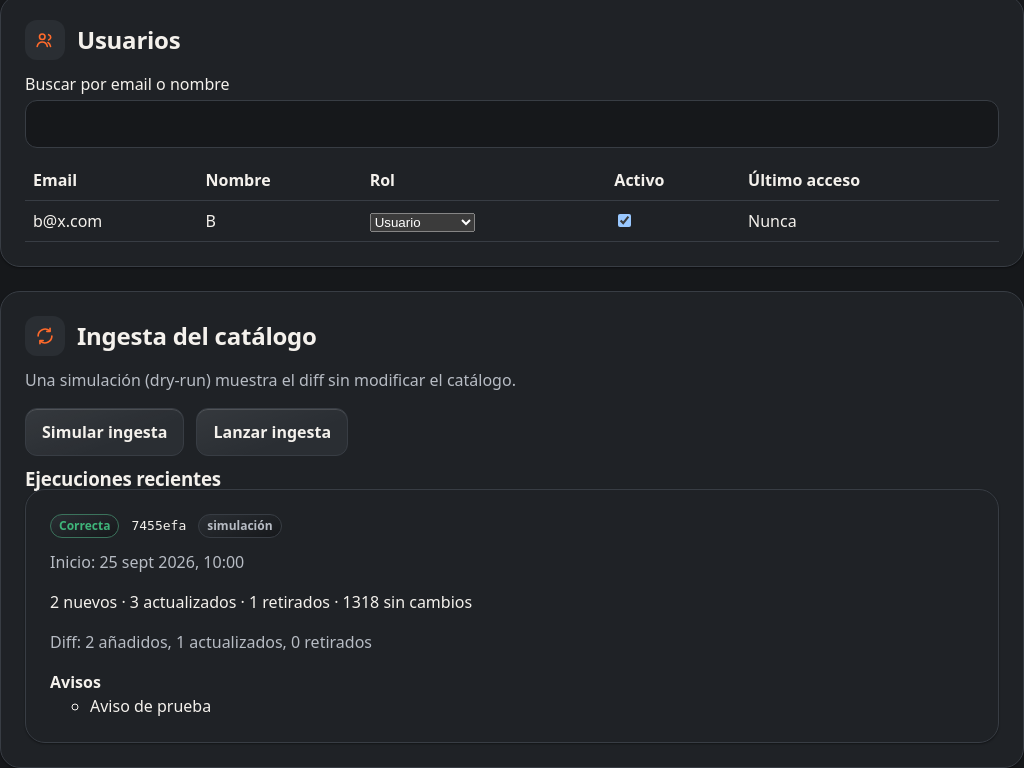
Test: AdminRoute › lanza la ingesta (simulación) y muestra ejecuciones con diff
(page scrolled)
Expected: the list item "Correcta" is shown, left=59, top=517, right=110, bottom=534
Expected: the text "7455efa" is shown, left=132, top=516, right=186, bottom=536
Step 1. Click the button "Simular ingesta" → (105, 432), box left=25, top=408, right=184, bottom=456
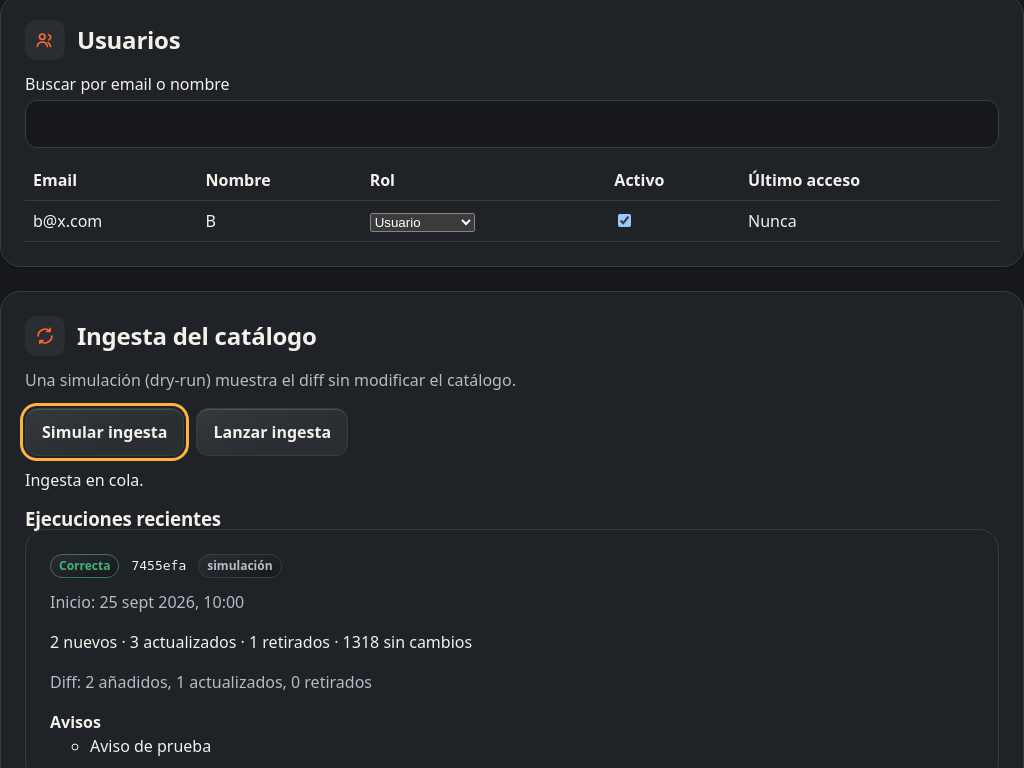
Now the text "Ingesta en cola." is shown, box left=25, top=469, right=144, bottom=491
